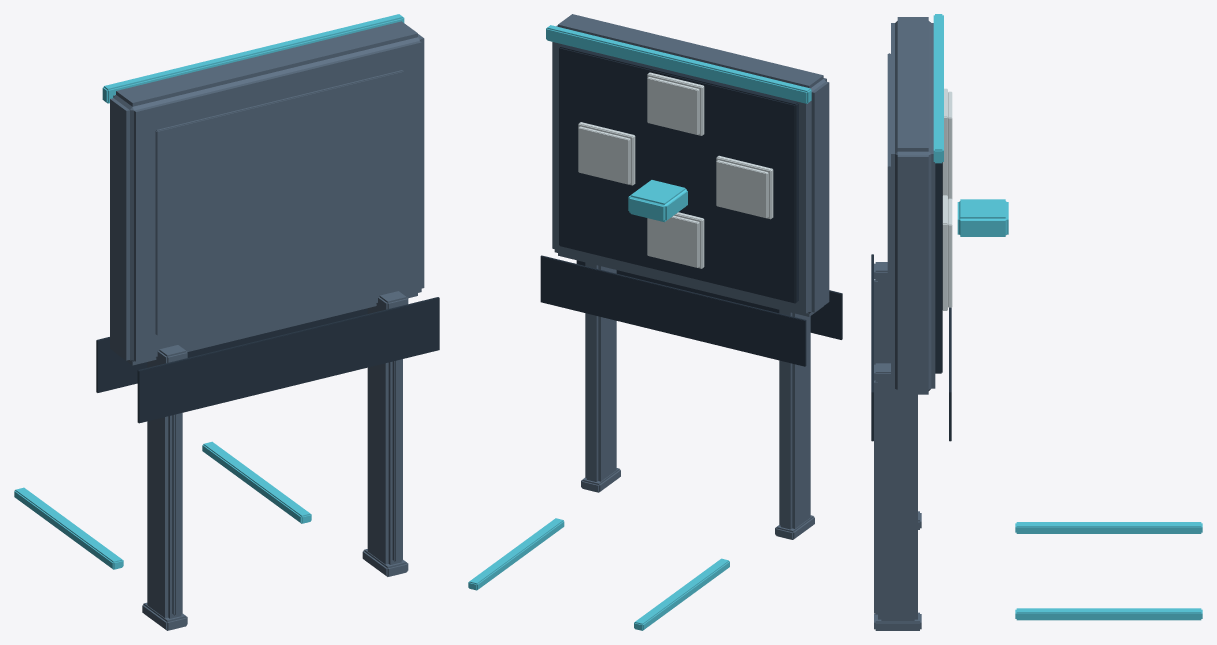
3 renders of one model, left to right at view 1: azimuth 30°, elevation 25°; view 2: azimuth 150°, elevation 25°; view 3: azimuth 270°, elevation 25°, orthographic. The views are drawn at different scales.
Visible parts, largest first — view 1: ConsoleHousing, Audience progress backing, Left leg, Right leg, Front progress backing, AwardHeader, Left stance rail, Right stance rail; view 2: RecessedDisplay, ConsoleHousing, Front progress backing, Left leg, Right leg, AwardHeader, Signal 0, Signal 3, Signal 1, Signal 2, Audience progress backing, ResponsePad (+2 smaller); view 3: ConsoleHousing, Right leg, Right stance rail, Left stance rail, ResponsePad, RecessedDisplay, AwardHeader, Left leg, Signal 1, Signal 0, Audience progress backing.
Part boxes in pixels (x1=…): ConsoleHousing: x1=110, y1=21, x2=424, y2=365; Audience progress backing: x1=137, y1=297, x2=439, y2=423; Left leg: x1=142, y1=345, x2=187, y2=630; Right leg: x1=362, y1=291, x2=408, y2=576; Front progress backing: x1=96, y1=308, x2=367, y2=392; AwardHeader: x1=102, y1=14, x2=404, y2=103; Left stance rail: x1=14, y1=487, x2=123, y2=569; Right stance rail: x1=202, y1=441, x2=311, y2=523; RecessedDisplay: x1=559, y1=45, x2=798, y2=303; ConsoleHousing: x1=552, y1=14, x2=829, y2=316; Front progress backing: x1=540, y1=255, x2=806, y2=366; Left leg: x1=775, y1=310, x2=814, y2=539; Right leg: x1=581, y1=262, x2=620, y2=492; AwardHeader: x1=546, y1=25, x2=811, y2=103; Signal 0: x1=647, y1=72, x2=704, y2=135; Signal 3: x1=716, y1=155, x2=773, y2=219; Signal 1: x1=578, y1=122, x2=635, y2=185; Signal 2: x1=647, y1=212, x2=704, y2=268; Audience progress backing: x1=576, y1=260, x2=842, y2=339; ResponsePad: x1=628, y1=180, x2=687, y2=222; ConsoleHousing: x1=887, y1=17, x2=935, y2=394; Right leg: x1=874, y1=363, x2=921, y2=630; Right stance rail: x1=1015, y1=608, x2=1202, y2=620; Left stance rail: x1=1015, y1=522, x2=1202, y2=533; ResponsePad: x1=957, y1=199, x2=1008, y2=236; RecessedDisplay: x1=935, y1=162, x2=942, y2=373; AwardHeader: x1=933, y1=14, x2=943, y2=163; Left leg: x1=874, y1=262, x2=921, y2=529; Signal 1: x1=942, y1=195, x2=952, y2=275; Signal 0: x1=942, y1=88, x2=952, y2=168; Audience progress backing: x1=871, y1=254, x2=873, y2=441.
Bounding box in the file's own units: 0.96 × 1.6 × 0.973.
